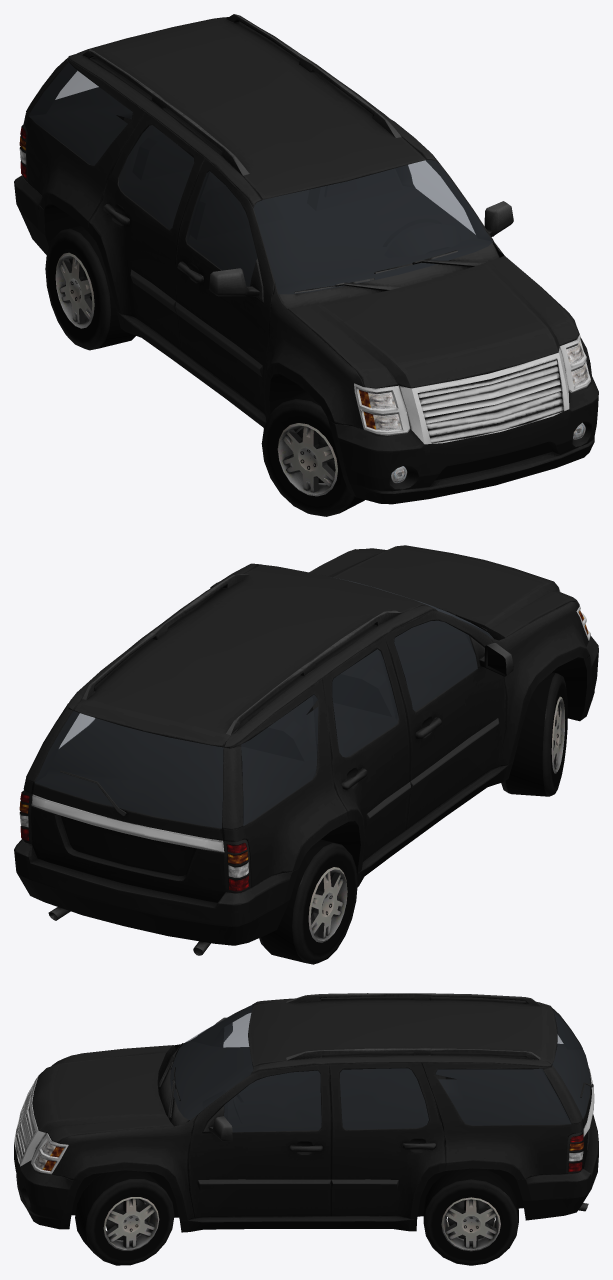
The model's file is suv_4x4_complete.glb.
The picture shows the model from 3 angles, top to bottom: view 1: azimuth 30°, elevation 25°; view 2: azimuth 150°, elevation 25°; view 3: azimuth 270°, elevation 25°; orthographic projection. The views are drawn at different scales.
Parts seen in each view (by area): view 1: SUV_Body, FR_2, RR_1; view 2: SUV_Body, RR_1, FR_2; view 3: SUV_Body, RL_1, FL_2.
Part boxes in pixels (x1,y1,x2,y2): SUV_Body: [14, 14, 598, 504]; FR_2: [261, 391, 364, 516]; RR_1: [45, 225, 135, 350]; SUV_Body: [14, 545, 598, 955]; RR_1: [259, 839, 357, 964]; FR_2: [501, 672, 567, 796]; SUV_Body: [14, 993, 598, 1232]; RL_1: [423, 1168, 518, 1265]; FL_2: [75, 1170, 174, 1265].
Size of the model in its own units: 2.15 by 1.81 by 4.8.
Materials: 11 (10 with a texture image).
